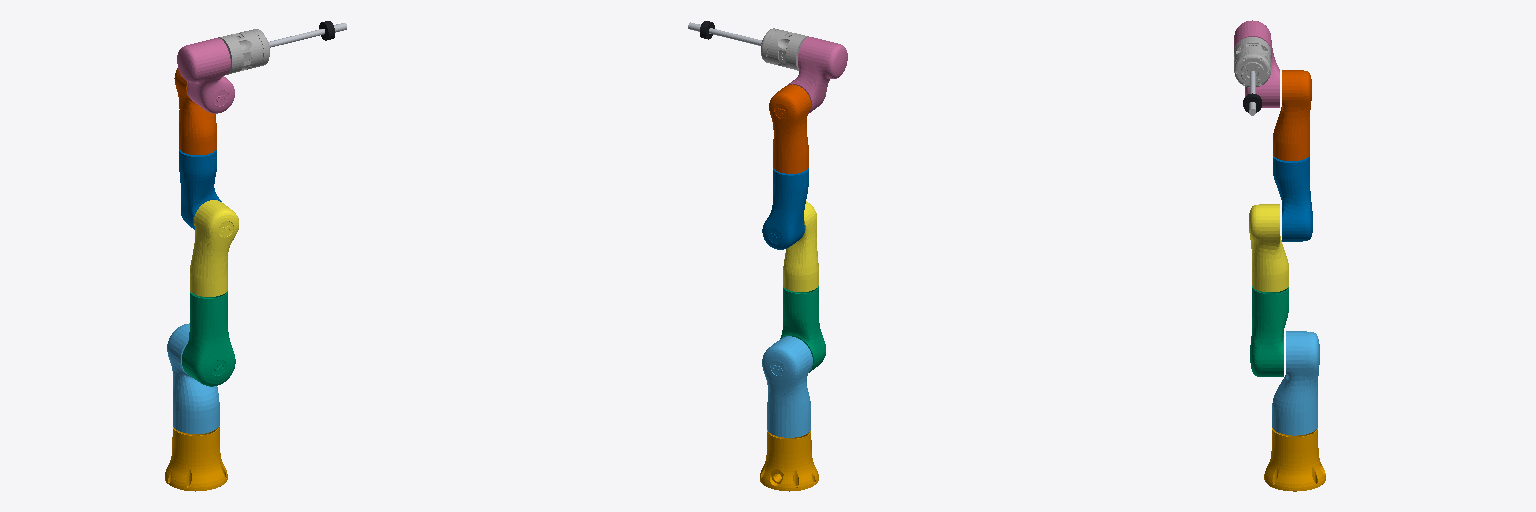
The robot description file, URDF, robot "Rizon4s_with_round_peg":
<?xml version='1.0' encoding='utf-8'?>
<robot name="Rizon4s_with_round_peg">
  <link name="base_link">
    <inertial>
      <origin xyz="0.0002 -0.0007 0.0871" rpy="0 0 0" />
      <mass value="3.788" />
      <inertia ixx="0.0182" ixy="0.0" ixz="0.0" iyy="0.0184" iyz="0.0001" izz="0.01" />
    </inertial>
    <visual>
      <geometry>
        <mesh filename="rizon4s_visual_link0.obj" />
      </geometry>
    </visual>
    <collision>
      <geometry>
        <mesh filename="rizon4s_collision_link0.stl" />
      </geometry>
    </collision>
  </link>
  <link name="link1">
    <inertial>
      <origin xyz="0.0001 0.0035 0.15" rpy="0 0 0" />
      <mass value="3.596" />
      <inertia ixx="0.0274" ixy="0.0" ixz="0.0" iyy="0.0273" iyz="0.0011" izz="0.0071" />
    </inertial>
    <visual>
      <geometry>
        <mesh filename="rizon4s_visual_link1.obj" />
      </geometry>
    </visual>
    <collision>
      <geometry>
        <mesh filename="rizon4s_collision_link1.stl" />
      </geometry>
    </collision>
  </link>
  <joint name="joint1" type="revolute">
    <parent link="base_link" />
    <child link="link1" />
    <origin xyz="0 0 0.155" rpy="0 0 3.141592653589793" />
    <axis xyz="0 0 1" />
    <limit lower="-2.8798" upper="2.8798" effort="123" velocity="2.0944" />
    <dynamics damping="0.1" friction="0" />
  </joint>
  <link name="link2">
    <inertial>
      <origin xyz="-0.0003 0.0361 0.0998" rpy="0 0 0" />
      <mass value="2.69" />
      <inertia ixx="0.023" ixy="0.0" ixz="0.0" iyy="0.0239" iyz="-0.0001" izz="0.0036" />
    </inertial>
    <visual>
      <geometry>
        <mesh filename="rizon4s_visual_link2.obj" />
      </geometry>
    </visual>
    <collision>
      <geometry>
        <mesh filename="rizon4s_collision_link2.stl" />
      </geometry>
    </collision>
  </link>
  <joint name="joint2" type="revolute">
    <parent link="link1" />
    <child link="link2" />
    <origin xyz="0 0.03 0.21" rpy="0 0 0" />
    <axis xyz="0 1 0" />
    <limit lower="-2.3562" upper="2.3562" effort="123" velocity="2.0944" />
    <dynamics damping="0.1" friction="0" />
  </joint>
  <link name="link3">
    <inertial>
      <origin xyz="-0.0123 -0.0012 0.1366" rpy="0 0 0" />
      <mass value="2.354" />
      <inertia ixx="0.0143" ixy="0.0001" ixz="-0.0015" iyy="0.0137" iyz="-0.0005" izz="0.004" />
    </inertial>
    <visual>
      <geometry>
        <mesh filename="rizon4s_visual_link3.obj" />
      </geometry>
    </visual>
    <collision>
      <geometry>
        <mesh filename="rizon4s_collision_link3.stl" />
      </geometry>
    </collision>
  </link>
  <joint name="joint3" type="revolute">
    <parent link="link2" />
    <child link="link3" />
    <origin xyz="0 0.035 0.205" rpy="0 0 0" />
    <axis xyz="0 0 1" />
    <limit lower="-3.0543" upper="3.0543" effort="64" velocity="2.4435" />
    <dynamics damping="0.08" friction="0" />
  </joint>
  <link name="link4">
    <inertial>
      <origin xyz="-0.0129 0.0313 0.1034" rpy="0 0 0" />
      <mass value="2.354" />
      <inertia ixx="0.018" ixy="0.0001" ixz="-0.0016" iyy="0.0184" iyz="-0.0012" izz="0.003" />
    </inertial>
    <visual>
      <geometry>
        <mesh filename="rizon4s_visual_link4.obj" />
      </geometry>
    </visual>
    <collision>
      <geometry>
        <mesh filename="rizon4s_collision_link4.stl" />
      </geometry>
    </collision>
  </link>
  <joint name="joint4" type="revolute">
    <parent link="link3" />
    <child link="link4" />
    <origin xyz="-0.02 -0.03 0.19" rpy="0 0 3.141592653589793" />
    <axis xyz="0 1 0" />
    <limit lower="-1.9548" upper="2.7751" effort="64" velocity="2.4435" />
    <dynamics damping="0.08" friction="0" />
  </joint>
  <link name="link5">
    <inertial>
      <origin xyz="0.0003 0.0014 0.1363" rpy="0 0 0" />
      <mass value="2.31" />
      <inertia ixx="0.0142" ixy="0.0" ixz="0.0" iyy="0.0135" iyz="0.0005" izz="0.0037" />
    </inertial>
    <visual>
      <geometry>
        <mesh filename="rizon4s_visual_link5.obj" />
      </geometry>
    </visual>
    <collision>
      <geometry>
        <mesh filename="rizon4s_collision_link5.stl" />
      </geometry>
    </collision>
  </link>
  <joint name="joint5" type="revolute">
    <parent link="link4" />
    <child link="link5" />
    <origin xyz="-0.02 0.025 0.195" rpy="0 0 3.141592653589793" />
    <axis xyz="0 0 1" />
    <limit lower="-3.0543" upper="3.0543" effort="39" velocity="4.8869" />
    <dynamics damping="0.05" friction="0" />
  </joint>
  <link name="link6">
    <inertial>
      <origin xyz="0.0202 0.0596 0.0724" rpy="0 0 0" />
      <mass value="2.223" />
      <inertia ixx="0.0085" ixy="0.0004" ixz="0.0012" iyy="0.009" iyz="0.0018" izz="0.0042" />
    </inertial>
    <visual>
      <geometry>
        <mesh filename="rizon4s_visual_link6.obj" />
      </geometry>
    </visual>
    <collision>
      <geometry>
        <mesh filename="rizon4s_collision_link6.stl" />
      </geometry>
    </collision>
  </link>
  <joint name="joint6" type="revolute">
    <parent link="link5" />
    <child link="link6" />
    <origin xyz="0 0.03 0.19" rpy="0 0 0" />
    <axis xyz="0 1 0" />
    <limit lower="-1.4835" upper="4.6251" effort="39" velocity="4.8869" />
    <dynamics damping="0.05" friction="0" />
  </joint>
  <link name="link7">
    <inertial>
      <origin xyz="0 0.0001 0.0544" rpy="0 0 0" />
      <mass value="1.403" />
      <inertia ixx="0.0032" ixy="0.0" ixz="0.0" iyy="0.0032" iyz="0.0" izz="0.0018" />
    </inertial>
    <visual>
      <geometry>
        <mesh filename="rizon4s_visual_link7.obj" />
      </geometry>
    </visual>
    <collision>
      <geometry>
        <mesh filename="rizon4s_collision_link7.stl" />
      </geometry>
    </collision>
  </link>
  <joint name="joint7" type="revolute">
    <parent link="link6" />
    <child link="link7" />
    <origin xyz="-0.015 0.073 0.11" rpy="0 -1.5707963267948966 0" />
    <axis xyz="0 0 1" />
    <limit lower="-3.0543" upper="3.0543" effort="39" velocity="4.8869" />
    <dynamics damping="0.03" friction="0" />
  </joint>
  <link name="flange" />
  <joint name="link7_to_flange" type="fixed">
    <parent link="link7" />
    <child link="flange" />
    <origin xyz="0 0 0.124" rpy="0 0 3.141592653589793" />
  </joint>
  <link name="tool_link">
    <inertial>
      <origin xyz="0 0 0.13" rpy="0 0 0" />
      <mass value="0.20" />
      <inertia ixx="0.001" iyy="0.001" izz="0.00004" ixy="0" ixz="0" iyz="0" />
    </inertial>
    <visual>
      <origin xyz="0 0 0.09" rpy="0 0 0" />
      <geometry>
        <cylinder radius="0.008" length="0.18" />
      </geometry>
      <material name="fixture">
        <color rgba="0.75 0.77 0.8 1" />
      </material>
    </visual>
    <collision>
      <origin xyz="0 0 0.09" rpy="0 0 0" />
      <geometry>
        <cylinder radius="0.008" length="0.18" />
      </geometry>
    </collision>
    <visual>
      <origin xyz="0 0 0.19" rpy="0 0 0" />
      <geometry>
        <cylinder radius="0.025" length="0.02" />
      </geometry>
      <material name="fixture">
        <color rgba="0.15 0.16 0.18 1" />
      </material>
    </visual>
    <collision>
      <origin xyz="0 0 0.19" rpy="0 0 0" />
      <geometry>
        <cylinder radius="0.025" length="0.02" />
      </geometry>
    </collision>
    <visual>
      <origin xyz="0 0 0.2225" rpy="0 0 0" />
      <geometry>
        <cylinder radius="0.01" length="0.045" />
      </geometry>
      <material name="fixture">
        <color rgba="0.75 0.77 0.8 1" />
      </material>
    </visual>
    <collision>
      <origin xyz="0 0 0.2225" rpy="0 0 0" />
      <geometry>
        <cylinder radius="0.01" length="0.045" />
      </geometry>
    </collision>
  </link>
  <joint name="flange_to_tool" type="fixed">
    <parent link="flange" />
    <child link="tool_link" />
    <origin xyz="0 0 0" rpy="0 0 0" />
  </joint>
</robot>

--- What the picture shows (computed from the rendered views, not written in the file) ---
Views: 3 orthographic renders of the robot side by side, from view 1: azimuth 30°, elevation 25°; view 2: azimuth 150°, elevation 25°; view 3: azimuth 270°, elevation 25°.
Model Rizon4s_with_round_peg with 10 links and 9 joints (7 revolute, 2 fixed), rooted at base_link, posed all joints at 0.
Visible links, largest first — view 1: link2, link3, link6, link1, base_link, link4, link5, link7, tool_link; view 2: link1, link5, base_link, link4, link6, link2, link3, link7, tool_link; view 3: link1, link2, base_link, link5, link3, link4, link7, link6.
Boxes of the visible links, x1=… form: link2: x1=182, y1=291, x2=235, y2=386; link3: x1=190, y1=200, x2=238, y2=296; link6: x1=177, y1=38, x2=234, y2=113; link1: x1=167, y1=323, x2=219, y2=433; base_link: x1=165, y1=426, x2=227, y2=491; link4: x1=179, y1=149, x2=221, y2=229; link5: x1=174, y1=68, x2=216, y2=154; link7: x1=218, y1=29, x2=269, y2=74; tool_link: x1=269, y1=21, x2=346, y2=47; link1: x1=762, y1=336, x2=812, y2=437; link5: x1=769, y1=84, x2=810, y2=173; base_link: x1=760, y1=430, x2=818, y2=491; link4: x1=762, y1=168, x2=808, y2=249; link6: x1=788, y1=37, x2=847, y2=113; link2: x1=780, y1=286, x2=825, y2=372; link3: x1=783, y1=201, x2=818, y2=291; link7: x1=761, y1=28, x2=808, y2=70; tool_link: x1=688, y1=21, x2=761, y2=45; link1: x1=1272, y1=331, x2=1319, y2=435; link2: x1=1250, y1=286, x2=1288, y2=376; base_link: x1=1264, y1=428, x2=1325, y2=491; link5: x1=1273, y1=70, x2=1311, y2=160; link3: x1=1249, y1=204, x2=1288, y2=291; link4: x1=1273, y1=155, x2=1312, y2=241; link7: x1=1234, y1=37, x2=1270, y2=87; link6: x1=1234, y1=20, x2=1279, y2=107.
Size in the robot's own frame: 0.4895 by 0.2454 by 1.3 metres.
Meshes: 8 distinct files referenced, 8 mesh visuals loaded (8 OBJ).
